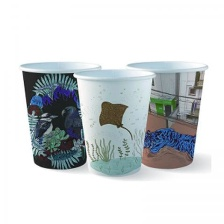paper_cup: (15, 55, 105, 174), (122, 55, 211, 172), (70, 64, 158, 182)
